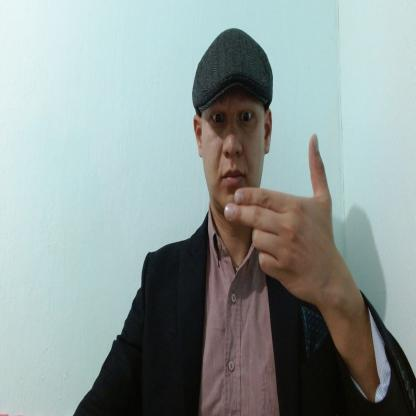H: (224, 133, 334, 303)
